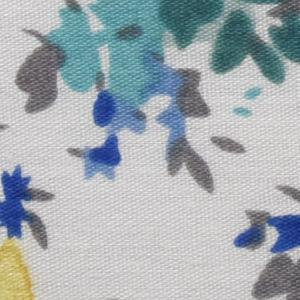Oil Stain: (1, 234, 38, 300)
